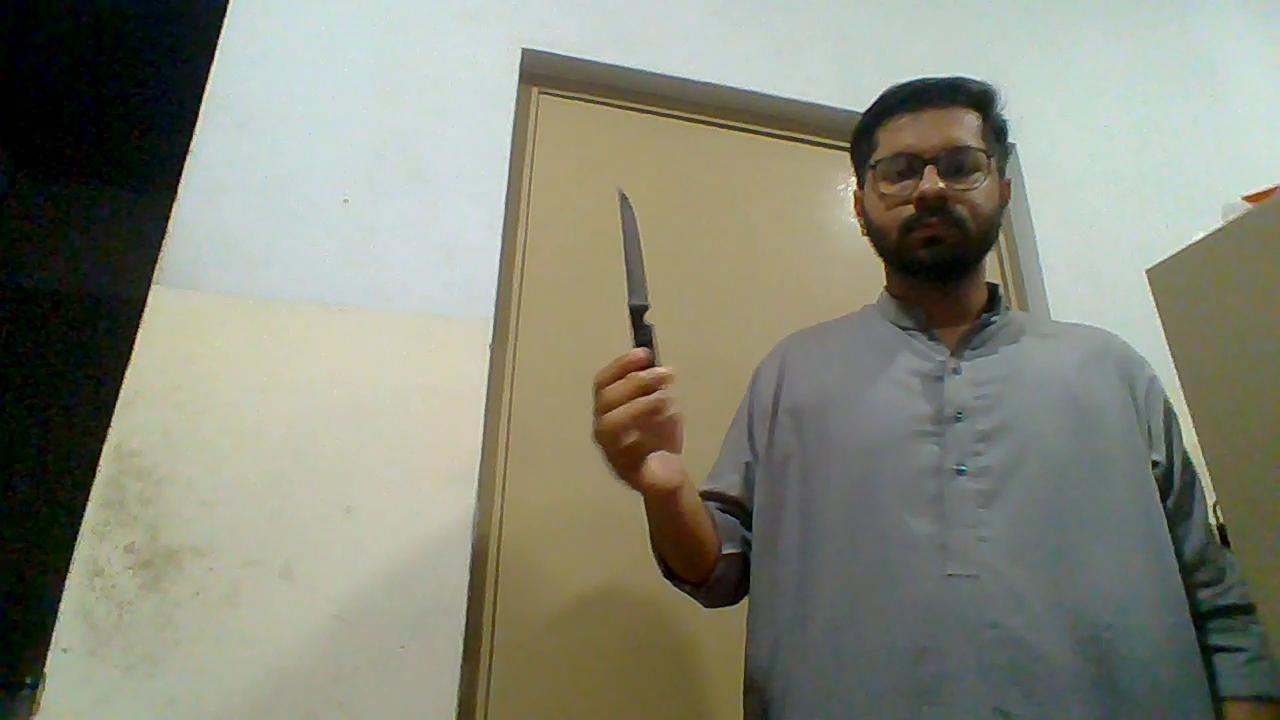criminal: (590, 76, 1280, 720)
weapon: (613, 186, 660, 377)
